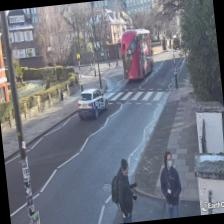person: (158, 149, 184, 218), (114, 157, 139, 223)
